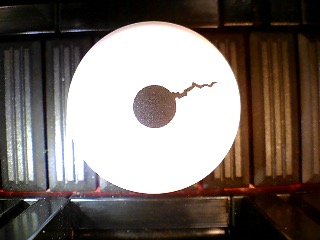CRACK: (67, 21, 241, 194)
